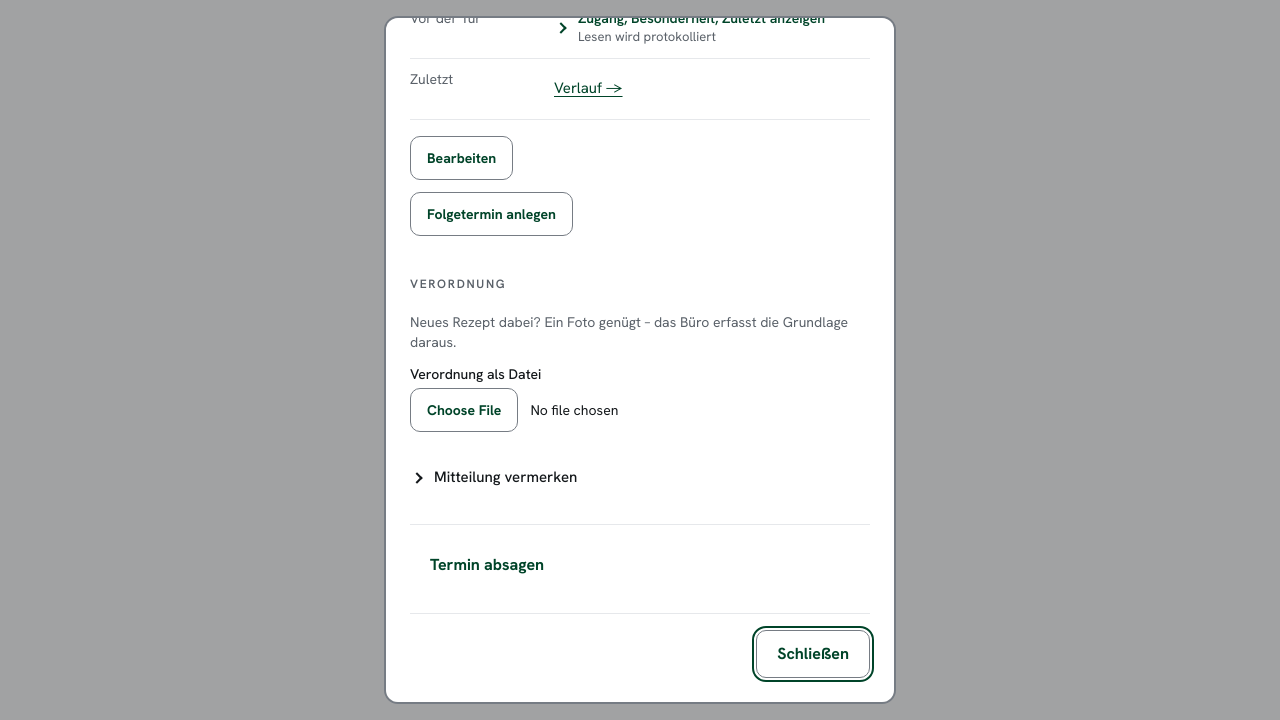
Test: TerminAktionenDialog › Aktionen (CAL-003) › nennt in der Rueckfrage den betroffenen Termin und vermeidet Loeschsprache
The image size is (1280, 720).
(page scrolled)
Click the button "Termin absagen". click: [487, 564]
box: x1=410 y1=540 x2=564 y2=588
(page scrolled)
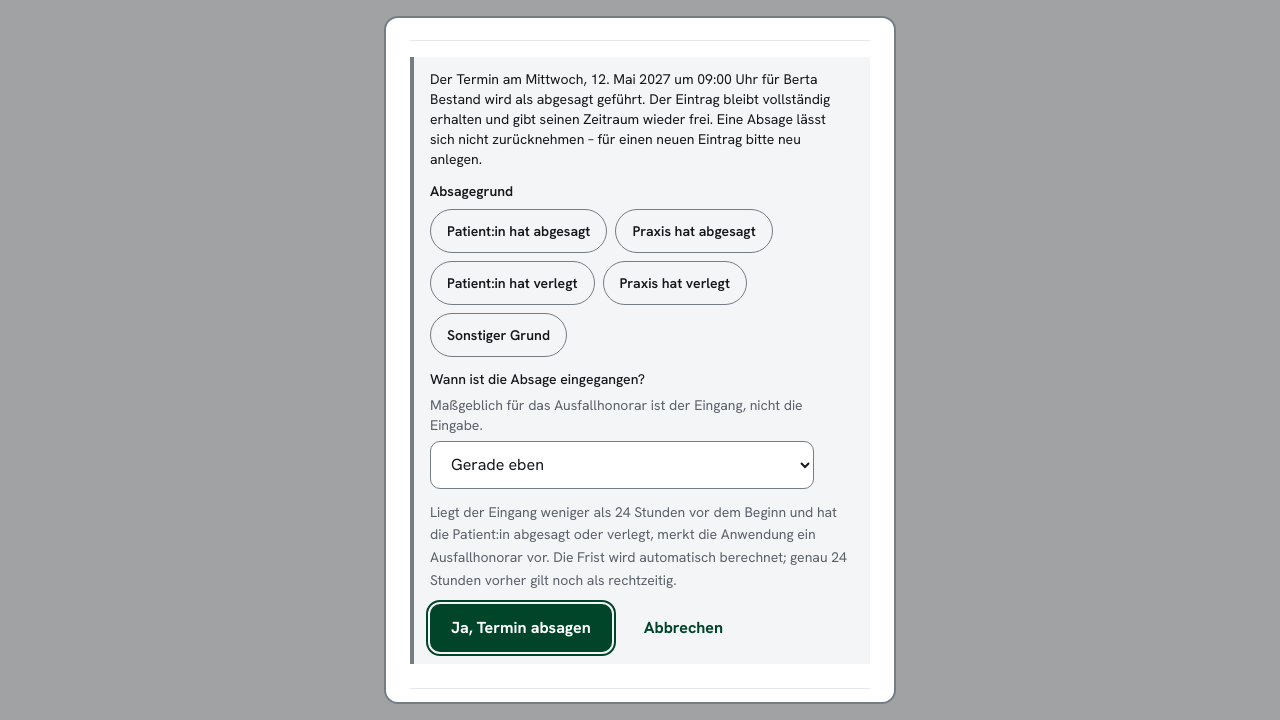
Expected: the element named "Termin absagen" shows "Berta Bestand", x1=430 y1=70 x2=818 y2=108
Expected: the element named "Termin absagen" shows "12. Mai 2027", x1=526 y1=70 x2=671 y2=88
Expected: the element named "Termin absagen" shows "09:00", x1=697 y1=70 x2=732 y2=88
